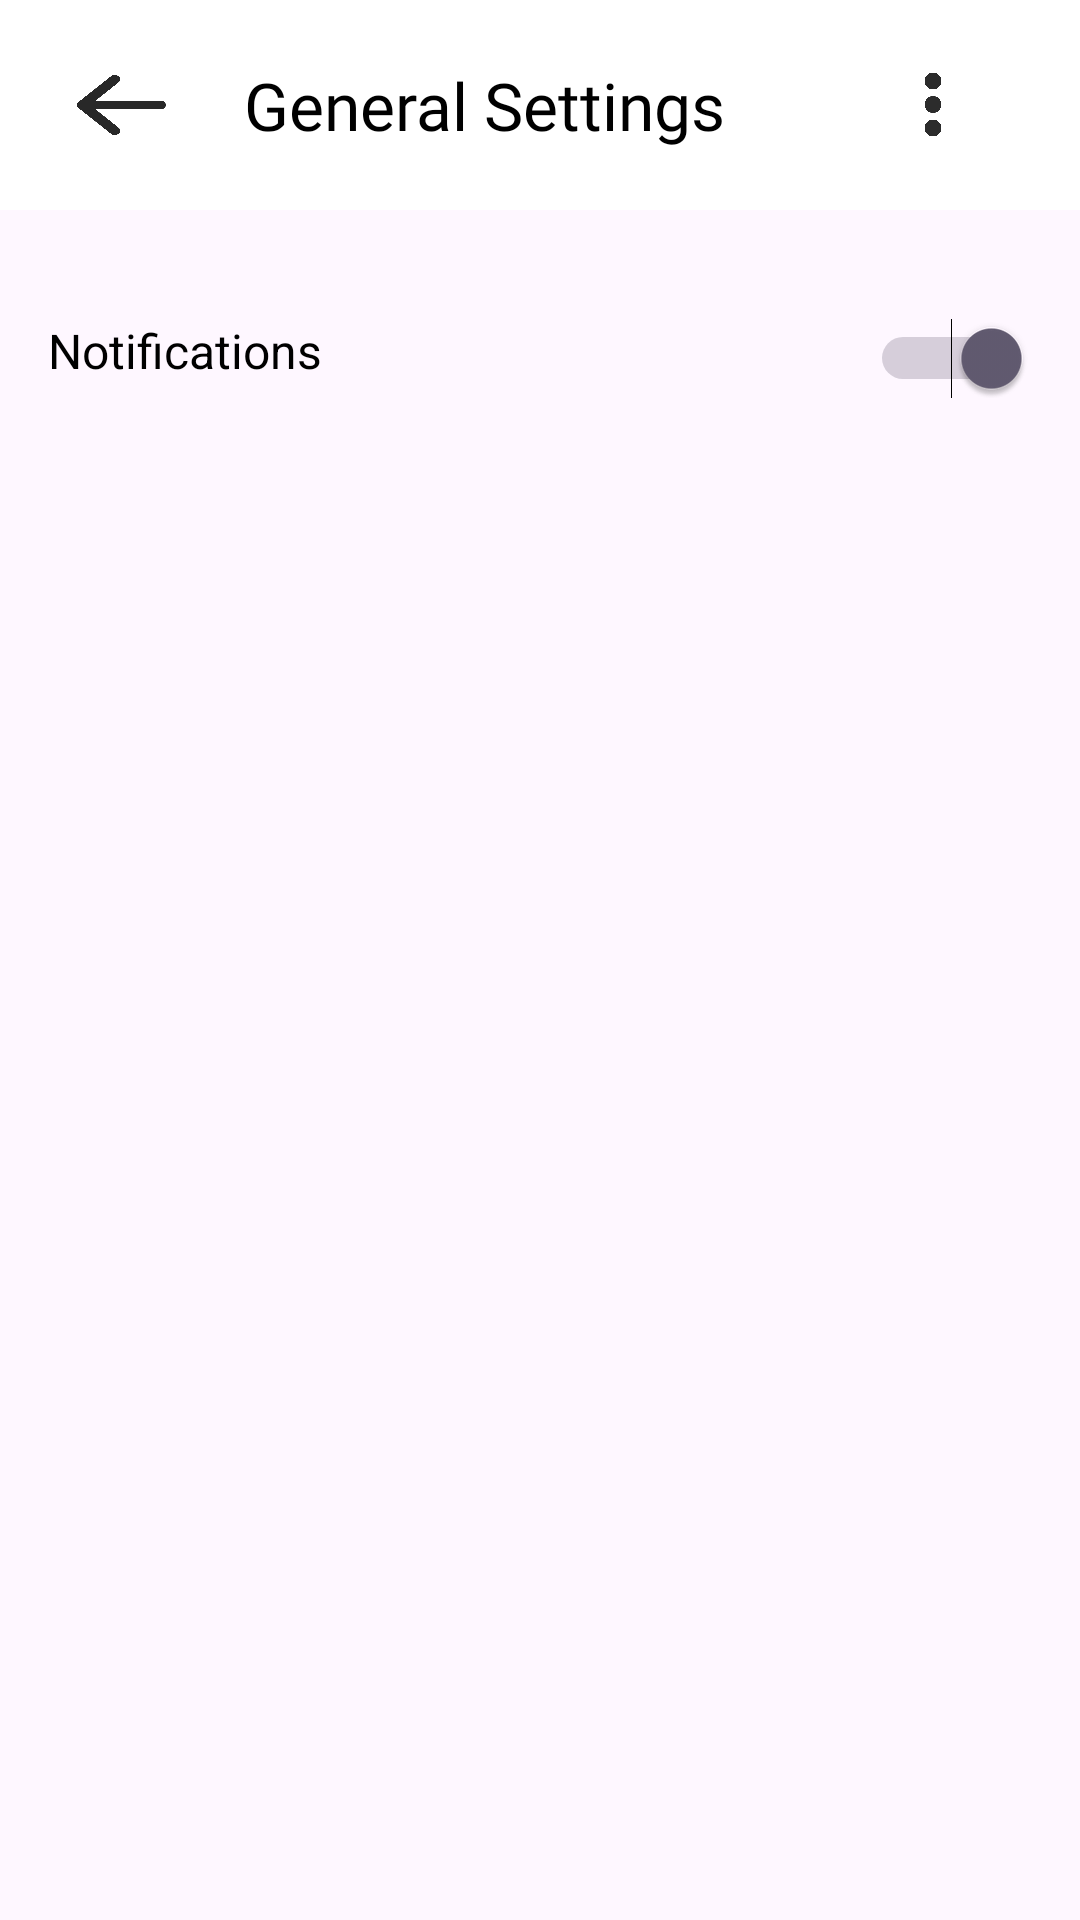

Icon click points for this 1080x1920 phone screenshot, format point (x, y):
arrow: point (121, 105)
three vertical dots: point (933, 104)
